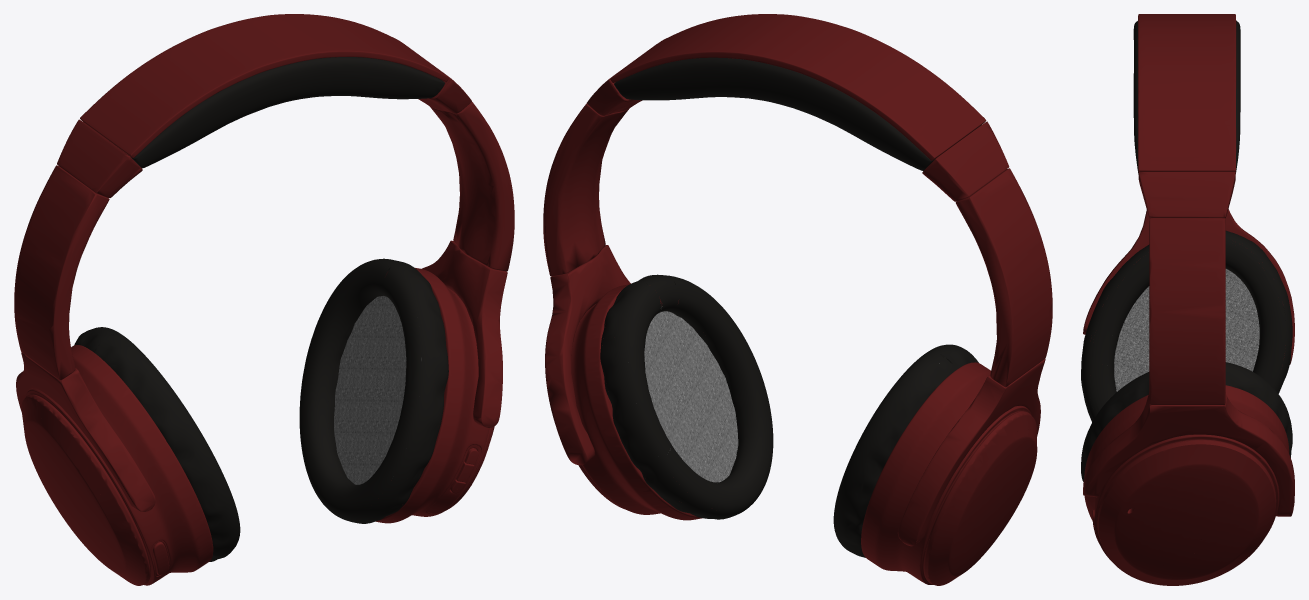
File: headphone.glb
3 views of the same model, side by side, from view 1: azimuth 30°, elevation 25°; view 2: azimuth 150°, elevation 25°; view 3: azimuth 270°, elevation 25° (orthographic). The views are drawn at different scales.
Visible parts, largest first — view 1: Circle, Circle.001, Circle.004, Circle.006, Circle.003, Circle.007, Circle.002, Circle.005, Circle.008; view 2: Circle, Circle.001, Circle.004, Circle.006, Circle.003, Circle.007, Circle.002, Circle.005; view 3: Circle, Circle.006, Circle.004, Circle.001, Circle.003, Circle.002, Circle.005, Circle.007.
Boxes of the visible parts, x1=… form: Circle: x1=21, y1=268, x2=494, y2=585; Circle.001: x1=74, y1=258, x2=448, y2=561; Circle.004: x1=14, y1=102, x2=514, y2=380; Circle.006: x1=80, y1=14, x2=449, y2=158; Circle.003: x1=16, y1=240, x2=507, y2=511; Circle.007: x1=128, y1=57, x2=444, y2=168; Circle.002: x1=334, y1=296, x2=421, y2=484; Circle.005: x1=57, y1=43, x2=471, y2=197; Circle.008: x1=427, y1=444, x2=481, y2=513; Circle: x1=571, y1=284, x2=1037, y2=585; Circle.001: x1=600, y1=274, x2=978, y2=557; Circle.004: x1=543, y1=103, x2=1052, y2=387; Circle.006: x1=610, y1=14, x2=986, y2=160; Circle.003: x1=545, y1=245, x2=1045, y2=546; Circle.007: x1=614, y1=57, x2=934, y2=170; Circle.002: x1=644, y1=306, x2=738, y2=482; Circle.005: x1=586, y1=44, x2=1009, y2=201; Circle: x1=1084, y1=258, x2=1289, y2=585; Circle.006: x1=1138, y1=14, x2=1236, y2=171; Circle.004: x1=1149, y1=218, x2=1225, y2=404; Circle.001: x1=1081, y1=230, x2=1292, y2=481; Circle.003: x1=1083, y1=209, x2=1294, y2=516; Circle.002: x1=1114, y1=269, x2=1259, y2=391; Circle.005: x1=1138, y1=171, x2=1235, y2=218; Circle.007: x1=1133, y1=21, x2=1240, y2=174.
Size of the model in its own units: 7.1 by 7.36 by 2.98.
4 materials, 4 textured.
